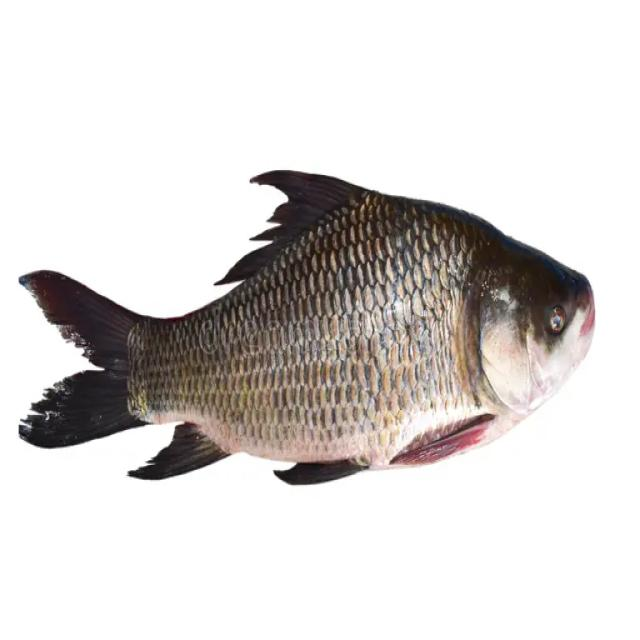Catla: (17, 170, 596, 488)
